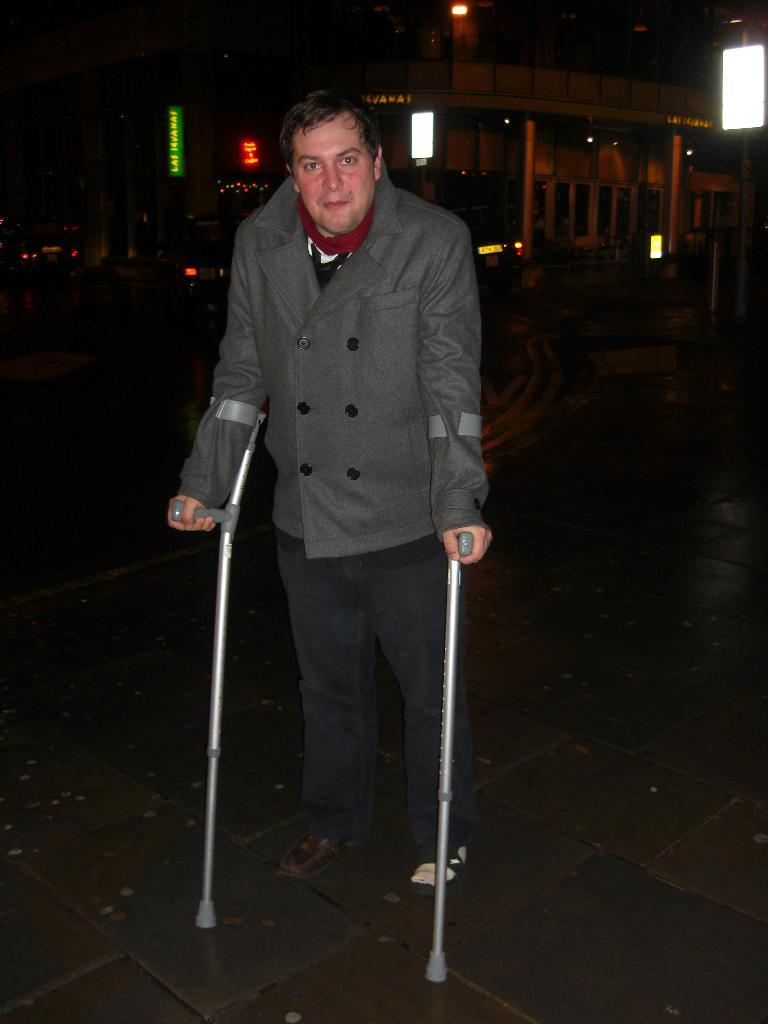crutches: (148, 74, 500, 996)
